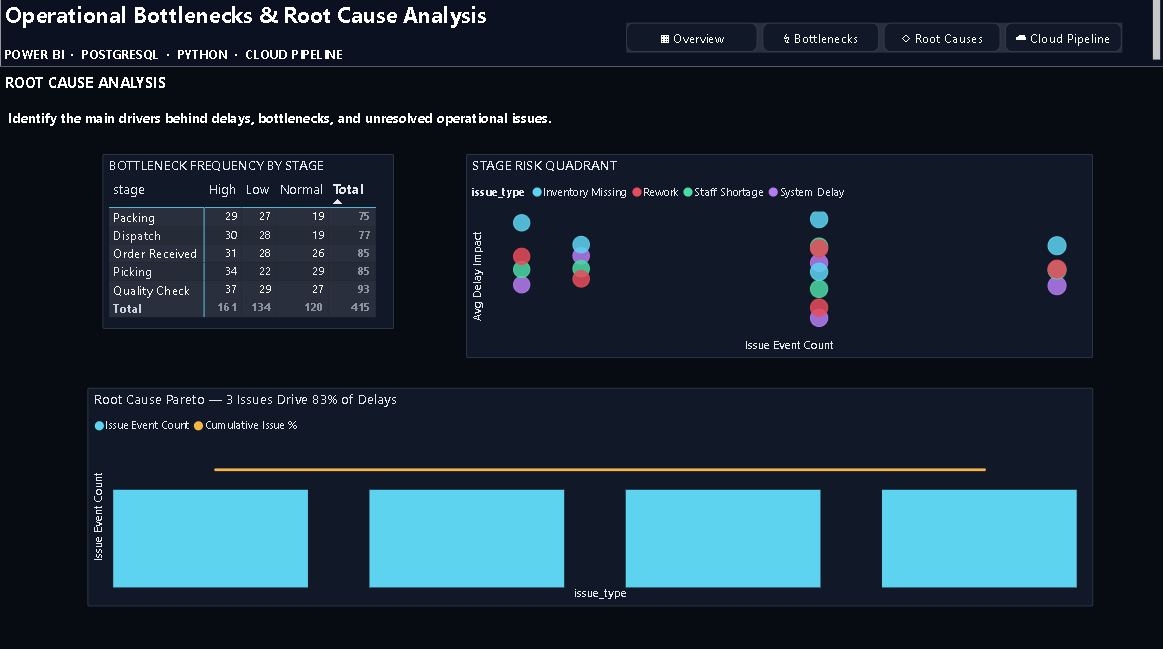

Layout of this report page (visuals, bound fields, positions):
{"tool":"powerbi","page":{"name":"◇ Root Cause Analysis","canvas":[1280,720],"ordinal":2},"visuals":[{"type":"group","id":"g1","title":"Group 1","box":[0,0,1280,160],"z":0},{"type":"textbox","box":[0,0,1280,80],"z":0,"group":"g1"},{"type":"textbox","box":[0,80,1280,80],"z":1000,"group":"g1"},{"type":"pivotTable","title":"BOTTLENECK FREQUENCY BY STAGE","fields":{"Rows":["order_events.stage"],"Values":["order_events.Issue Count"],"Columns":["orders.priority"]},"box":[112,176,320,192],"z":1000},{"type":"actionButton","box":[688,32,144,32],"z":2000,"group":"g2"},{"type":"scatterChart","title":"STAGE RISK QUADRANT","fields":{"Category":["order_events.stage"],"X":["order_events.Issue Event Count"],"Y":["_Measures.Avg Delay Impact"],"Series":["order_events.issue_type"],"Size":["order_events.Issue Event Count"]},"box":[512,176,688,224],"z":2000},{"type":"actionButton","box":[837.3,32,128,32],"z":3000,"group":"g2"},{"type":"lineClusteredColumnComboChart","title":"Root Cause Pareto — 3 Issues Drive 83% of Delays","fields":{"Category":["order_events.issue_type"],"Y":["order_events.Issue Event Count"],"Y2":["_Measures.Cumulative Issue %"]},"box":[96,432,1104,240],"z":3000},{"type":"group","id":"g2","title":"Group 4","box":[688,32,544,32],"z":4000},{"type":"actionButton","box":[1104,32,128,32],"z":4000,"group":"g2"},{"type":"actionButton","box":[970.7,32,128,32],"z":5000,"group":"g2"}]}

Visuals, with their boxes in screenshot pixels (x1, y1, x2, y2), scaled from the page's 1280x720 canvas onto the 1163x649 screenshot:
"Group 1" group: {"x1": 0, "y1": 0, "x2": 1162, "y2": 144}
textbox: {"x1": 0, "y1": 0, "x2": 1162, "y2": 72}
textbox: {"x1": 0, "y1": 72, "x2": 1162, "y2": 144}
"BOTTLENECK FREQUENCY BY STAGE" pivotTable: {"x1": 102, "y1": 159, "x2": 393, "y2": 332}
actionButton: {"x1": 625, "y1": 29, "x2": 756, "y2": 58}
"STAGE RISK QUADRANT" scatterChart: {"x1": 465, "y1": 159, "x2": 1090, "y2": 361}
actionButton: {"x1": 761, "y1": 29, "x2": 877, "y2": 58}
"Root Cause Pareto — 3 Issues Drive 83% of Delays" lineClusteredColumnComboChart: {"x1": 87, "y1": 389, "x2": 1090, "y2": 606}
"Group 4" group: {"x1": 625, "y1": 29, "x2": 1119, "y2": 58}
actionButton: {"x1": 1003, "y1": 29, "x2": 1119, "y2": 58}
actionButton: {"x1": 882, "y1": 29, "x2": 998, "y2": 58}
